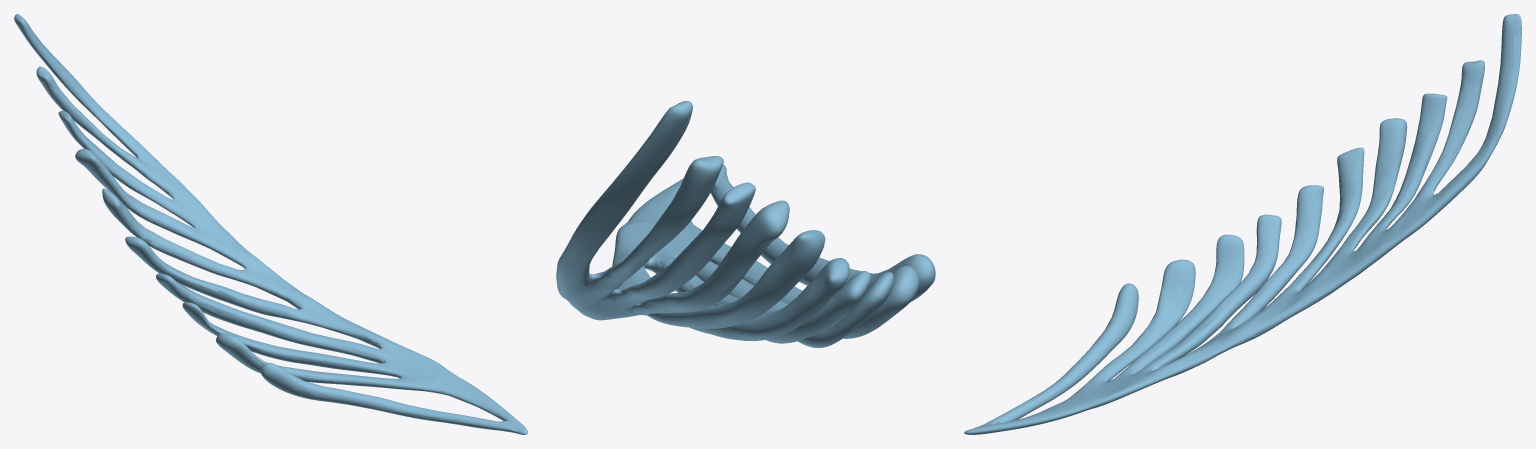
The model's file is Costal Cartilage Right.fbx.
3 views of the same model, side by side, from view 1: azimuth 30°, elevation 25°; view 2: azimuth 150°, elevation 25°; view 3: azimuth 270°, elevation 25° (orthographic). The views are drawn at different scales.
Visible parts, largest first — view 1: Costal Cartilage Right high, Costal Cartilage Right, Costal Cartilage Right low; view 2: Costal Cartilage Right high, Costal Cartilage Right, Costal Cartilage Right low; view 3: Costal Cartilage Right high, Costal Cartilage Right, Costal Cartilage Right low.
Boxes of the visible parts, x1=… form: Costal Cartilage Right high: x1=14, y1=14, x2=527, y2=434; Costal Cartilage Right: x1=32, y1=30, x2=517, y2=432; Costal Cartilage Right low: x1=32, y1=31, x2=517, y2=431; Costal Cartilage Right high: x1=556, y1=101, x2=935, y2=347; Costal Cartilage Right: x1=567, y1=137, x2=893, y2=337; Costal Cartilage Right low: x1=582, y1=171, x2=871, y2=329; Costal Cartilage Right high: x1=964, y1=14, x2=1521, y2=434; Costal Cartilage Right: x1=986, y1=33, x2=1519, y2=424; Costal Cartilage Right low: x1=987, y1=34, x2=1518, y2=424.
Bounding box in the file's own units: 27.13 × 29.7 × 50.34.
